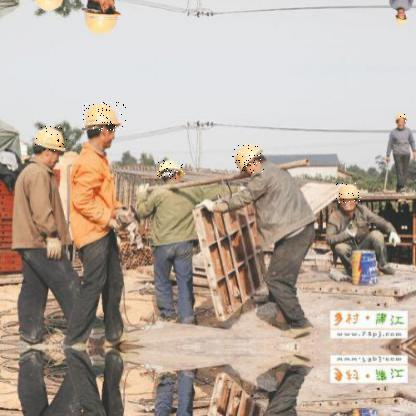safetyhelmet: (82, 102, 127, 132), (232, 145, 265, 174), (34, 126, 68, 152), (335, 182, 363, 204), (157, 160, 186, 180), (394, 113, 407, 124)
